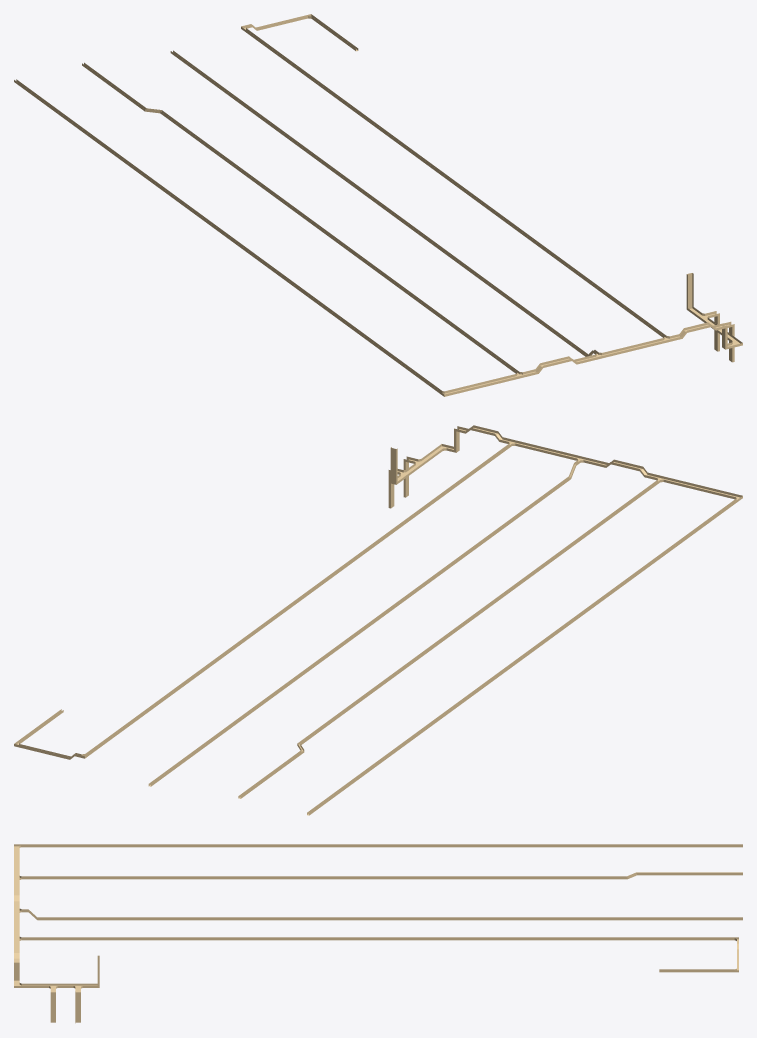
3 views of the same model, one above another, from view 1: azimuth 30°, elevation 25°; view 2: azimuth 150°, elevation 25°; view 3: azimuth 270°, elevation 25° (orthographic). The views are drawn at different scales.
Visible parts, largest first — view 1: L2-S-37BFF, L2-S-37C69, L2-S-37EB9, L2-S-37EC6; view 2: L2-S-37BFF, L2-S-37C69, L2-S-37EB9, L2-S-37EC6; view 3: L2-S-37BFF, L2-S-37C69, L2-S-37EB9, L2-S-37EC6, L2-S-37EC8.
Part boxes in pixels (left/top/right/bottom): L2-S-37BFF: left=14, top=79, right=441, bottom=392; L2-S-37C69: left=245, top=29, right=665, bottom=337; L2-S-37EB9: left=170, top=50, right=588, bottom=356; L2-S-37EC6: left=161, top=111, right=518, bottom=373; L2-S-37BFF: left=307, top=499, right=737, bottom=815; L2-S-37C69: left=86, top=444, right=511, bottom=755; L2-S-37EB9: left=148, top=476, right=570, bottom=786; L2-S-37EC6: left=298, top=480, right=659, bottom=744; L2-S-37BFF: left=22, top=844, right=742, bottom=847; L2-S-37C69: left=23, top=937, right=732, bottom=940; L2-S-37EB9: left=37, top=917, right=742, bottom=920; L2-S-37EC6: left=23, top=876, right=625, bottom=879; L2-S-37EC8: left=638, top=872, right=742, bottom=875.
Bounding box in the file's own units: 27.53 × 6 × 65.8.
